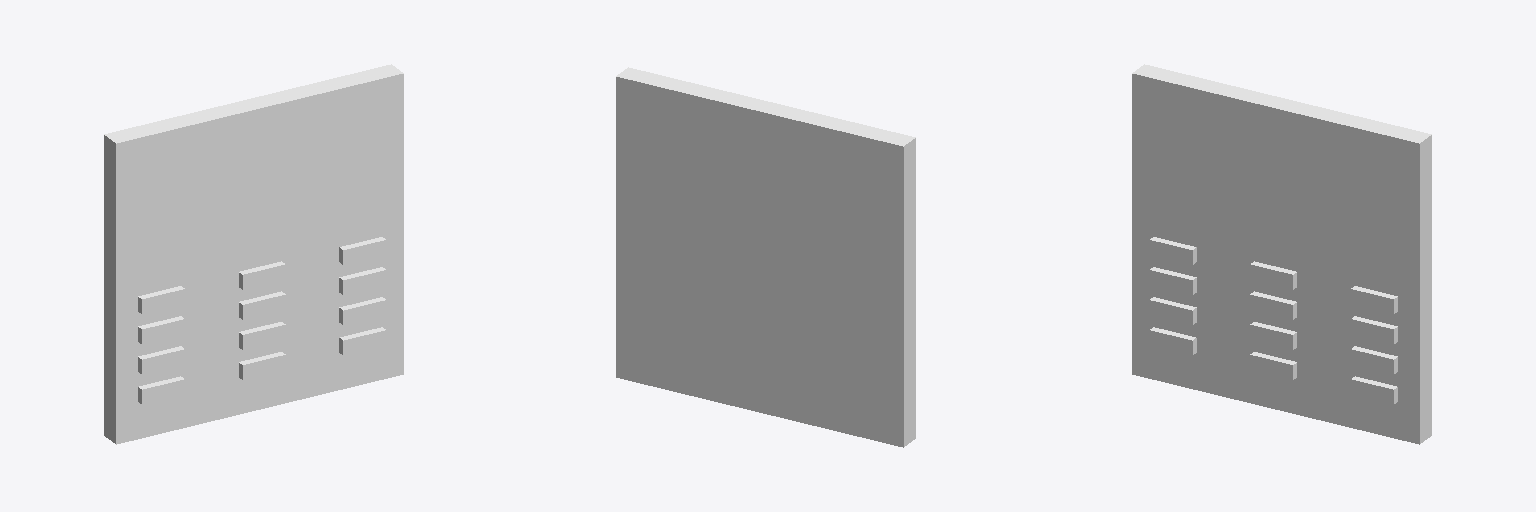
File: intercom1-1-lod1.obj
3 views of the same model, side by side, from view 1: azimuth 30°, elevation 25°; view 2: azimuth 150°, elevation 25°; view 3: azimuth 330°, elevation 25° (orthographic).
Parts seen in each view (by area): view 1: lod1; view 2: lod1; view 3: lod1.
Boxes of the visible parts, x1=… form: lod1: x1=104, y1=64, x2=403, y2=444; lod1: x1=616, y1=67, x2=915, y2=447; lod1: x1=1132, y1=64, x2=1431, y2=444.
Size of the model in its own units: 4 by 4 by 0.4.